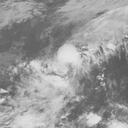cyclone: (30, 24, 106, 120)
